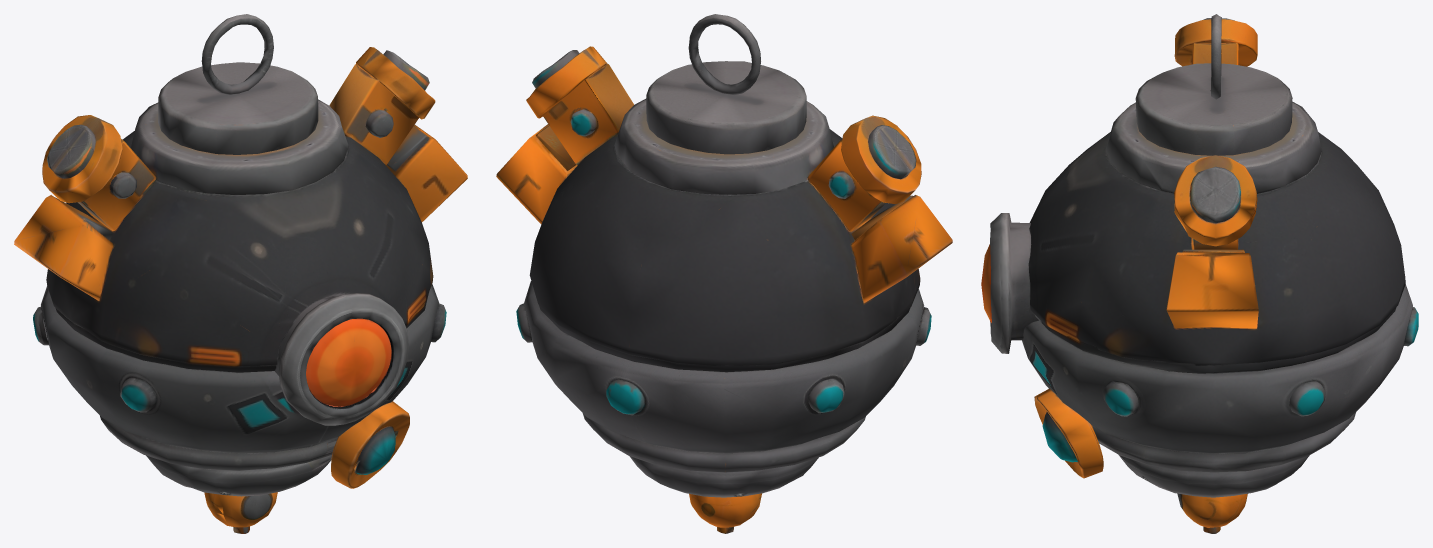
File: ScrapFloater.fbx
The picture shows the model from 3 angles, left to right: view 1: azimuth 30°, elevation 25°; view 2: azimuth 150°, elevation 25°; view 3: azimuth 270°, elevation 25°; orthographic projection.
Visible parts, largest first — view 1: Mesh_0; view 2: Mesh_0; view 3: Mesh_0.
Part boxes in pixels (x1,y1,x2,y2): Mesh_0: (14,14,467,533); Mesh_0: (496,14,952,533); Mesh_0: (981,14,1418,533).
Bounding box in the file's own units: 82.97 × 100 × 77.27.
1 material, 1 textured.
